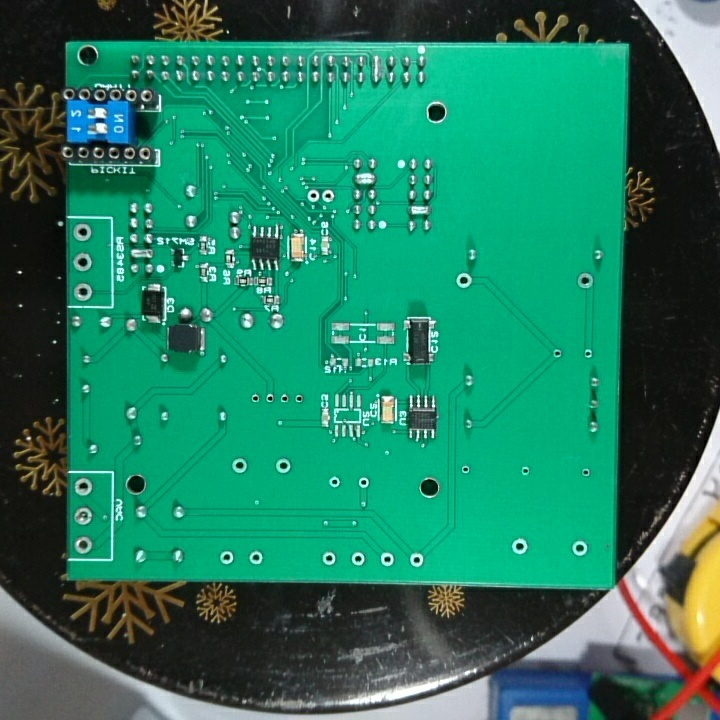F: (507, 536, 539, 558), (70, 221, 96, 248), (71, 476, 99, 500), (270, 456, 295, 478), (72, 279, 98, 300), (455, 268, 476, 293), (72, 534, 96, 555), (72, 505, 96, 526), (575, 269, 596, 292), (229, 455, 252, 476), (72, 252, 97, 271), (216, 547, 236, 568), (407, 548, 428, 567), (305, 186, 322, 209), (350, 549, 369, 569), (247, 548, 267, 566), (379, 549, 396, 569), (321, 185, 337, 206), (570, 540, 586, 557), (326, 474, 342, 491), (248, 391, 264, 407), (264, 391, 279, 408), (291, 392, 306, 409), (458, 462, 473, 478), (579, 464, 593, 481), (551, 347, 565, 363), (517, 464, 531, 479), (278, 391, 292, 406), (356, 475, 370, 489), (319, 549, 330, 566), (580, 345, 587, 360)
P: (370, 49, 384, 88), (127, 244, 156, 262), (407, 204, 434, 218), (352, 171, 379, 184)
